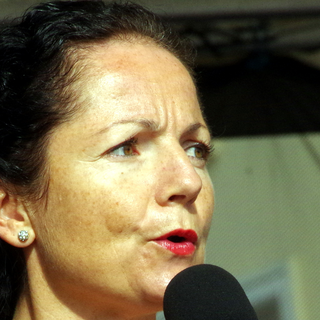eye: (98, 138, 144, 163), (180, 140, 210, 164)
